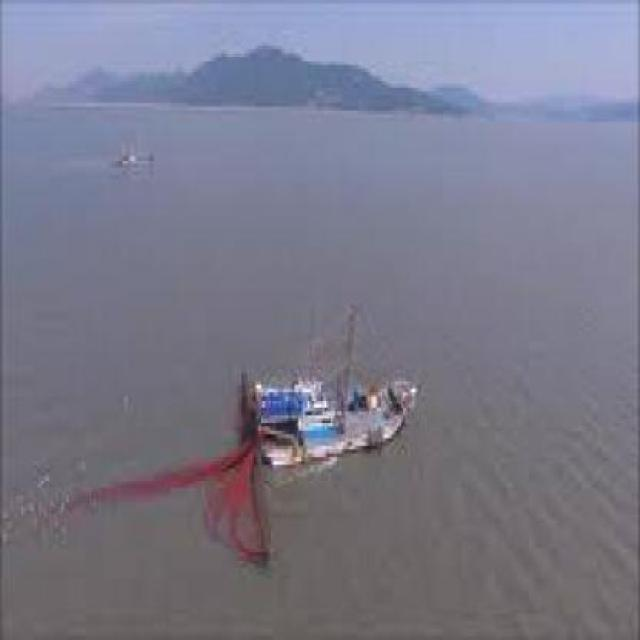fish-b: (225, 325, 426, 485)
